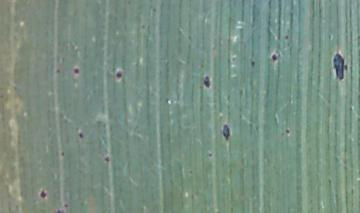tarspot: (330, 50, 350, 82), (220, 122, 231, 143), (202, 74, 212, 89), (38, 187, 49, 200), (113, 69, 123, 82), (270, 51, 279, 64), (236, 87, 245, 100), (72, 66, 81, 76), (185, 32, 194, 42), (77, 131, 85, 142), (249, 59, 257, 68), (102, 154, 110, 163), (230, 54, 237, 64), (53, 207, 64, 213), (206, 151, 214, 159), (150, 6, 158, 14), (139, 22, 146, 31), (284, 127, 291, 135), (283, 34, 290, 42), (187, 167, 193, 176), (54, 67, 61, 74), (326, 177, 332, 185), (60, 150, 67, 156), (62, 202, 69, 208)
